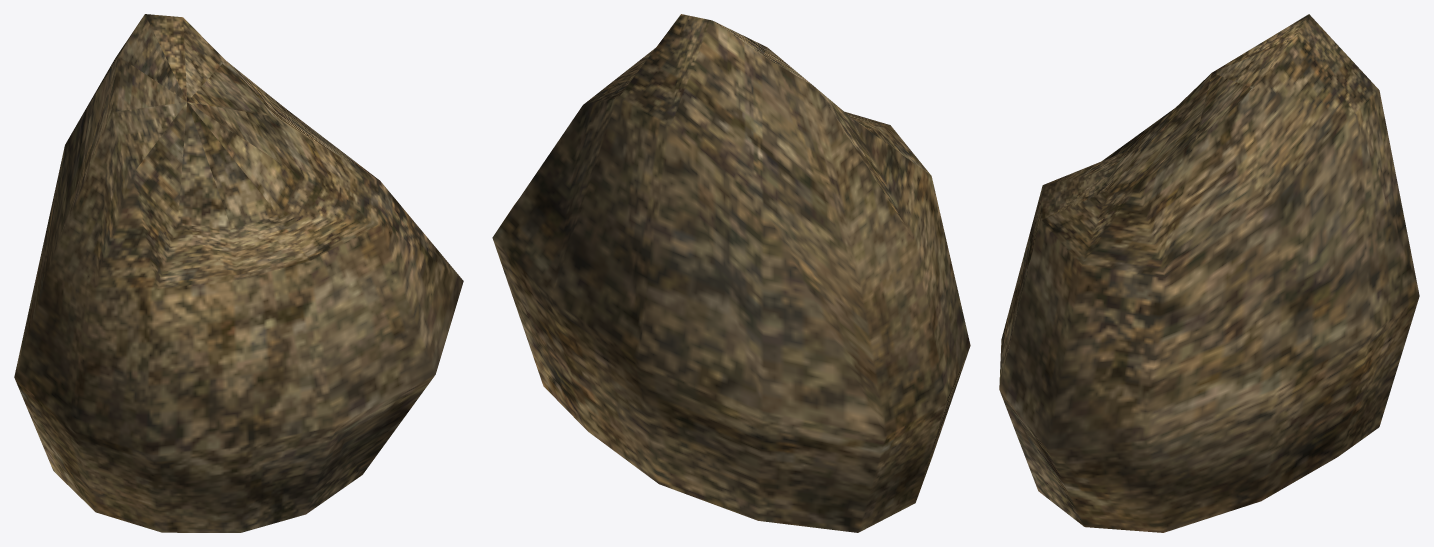
File: CH09_SMAUG_PLAYSURFACE_LONELYMOUNTAIN_LM_PLAYSURFACE25.fbx
The picture shows the model from 3 angles, left to right: view 1: azimuth 30°, elevation 25°; view 2: azimuth 150°, elevation 25°; view 3: azimuth 270°, elevation 25°; orthographic projection. The views are drawn at different scales.
Parts seen in each view (by area): view 1: CH09_SMAUG_PLAYSURFACE_LONELYMOUNTAIN_LM_PLAYSURFACE25; view 2: CH09_SMAUG_PLAYSURFACE_LONELYMOUNTAIN_LM_PLAYSURFACE25; view 3: CH09_SMAUG_PLAYSURFACE_LONELYMOUNTAIN_LM_PLAYSURFACE25.
Boxes of the visible parts, box(x1,y1,x2,y2) form: CH09_SMAUG_PLAYSURFACE_LONELYMOUNTAIN_LM_PLAYSURFACE25: box(14, 14, 463, 532); CH09_SMAUG_PLAYSURFACE_LONELYMOUNTAIN_LM_PLAYSURFACE25: box(492, 14, 970, 532); CH09_SMAUG_PLAYSURFACE_LONELYMOUNTAIN_LM_PLAYSURFACE25: box(999, 14, 1419, 532).
Size of the model in its own units: 32919 by 35099 by 28708.
1 material, 1 textured.
